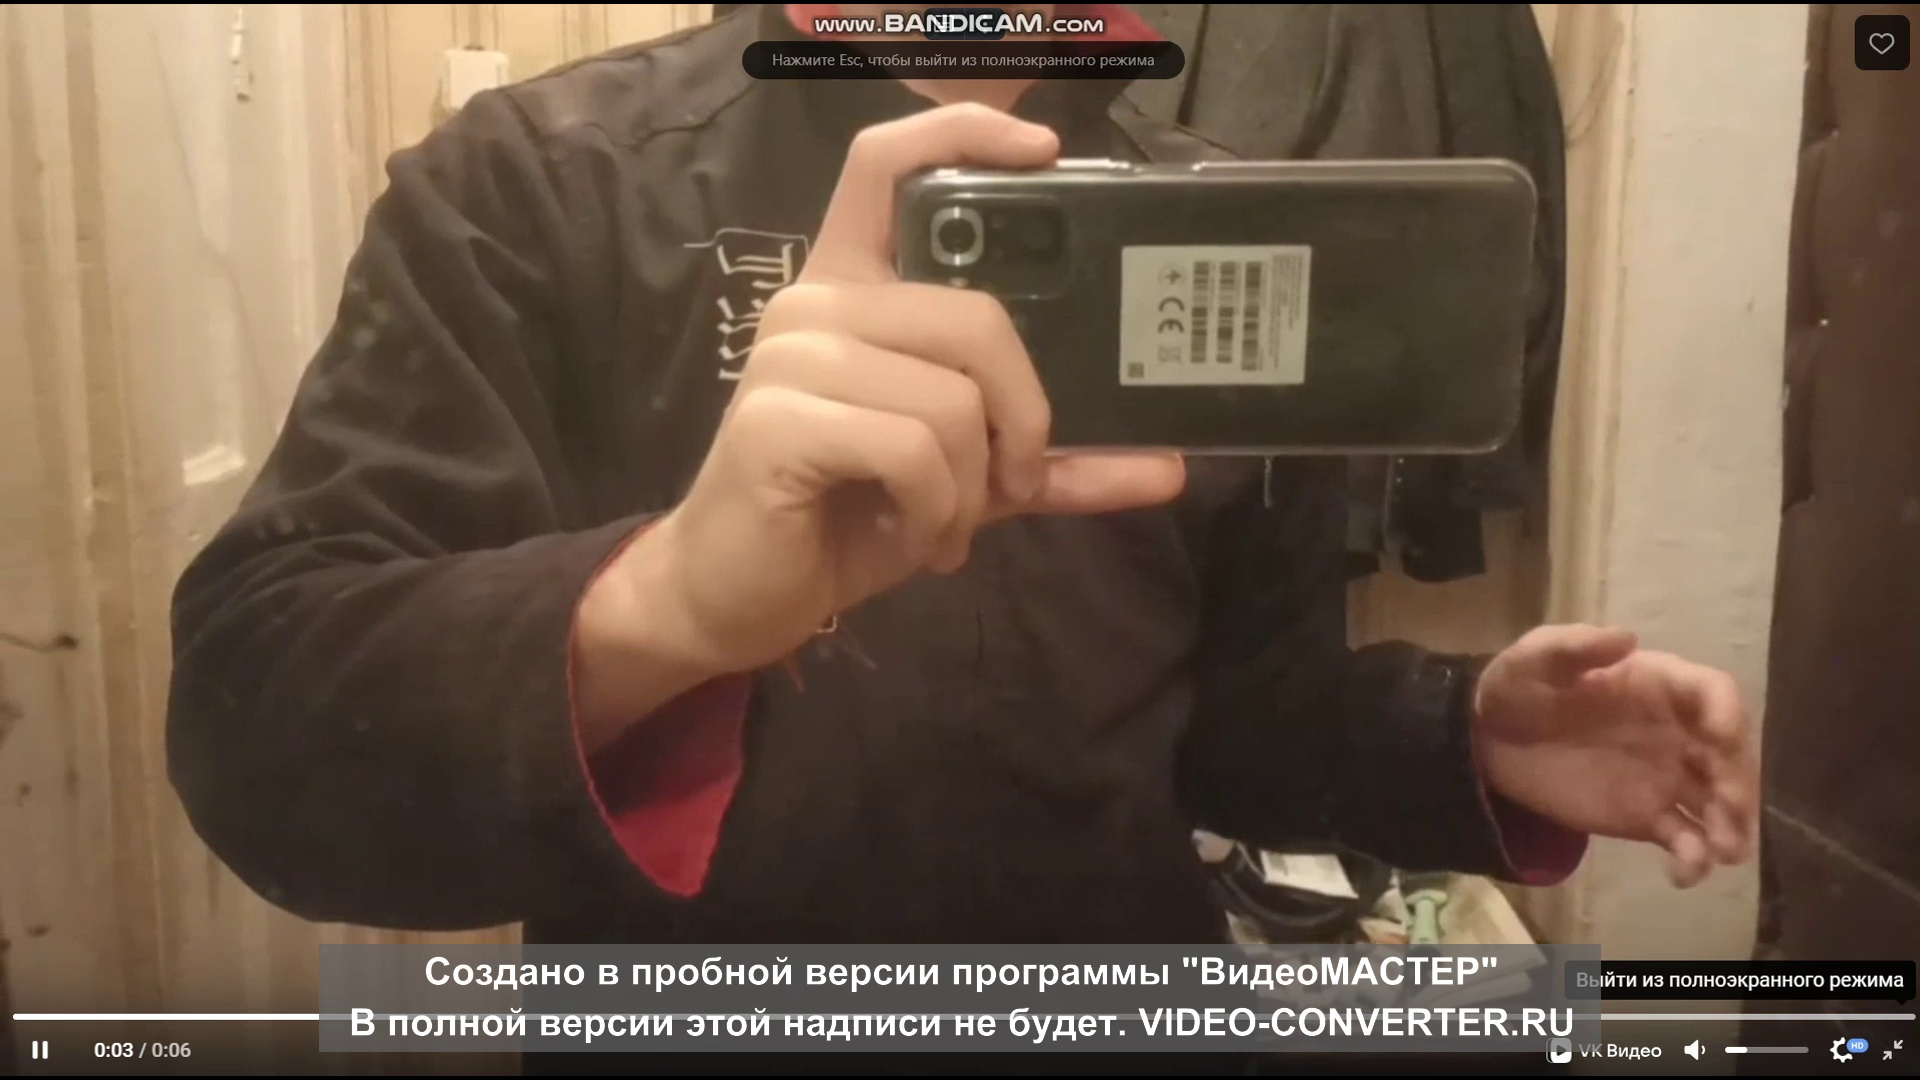Ладонь: (1487, 620, 1760, 886)
